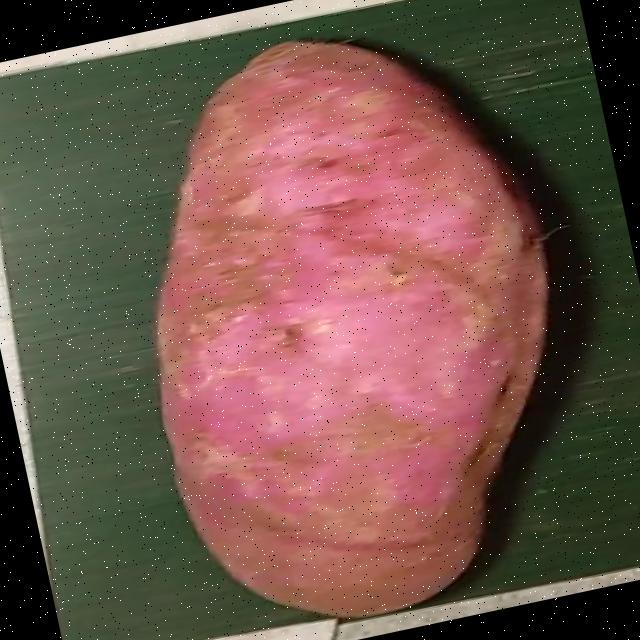Sweet Potato: (158, 39, 541, 616)
